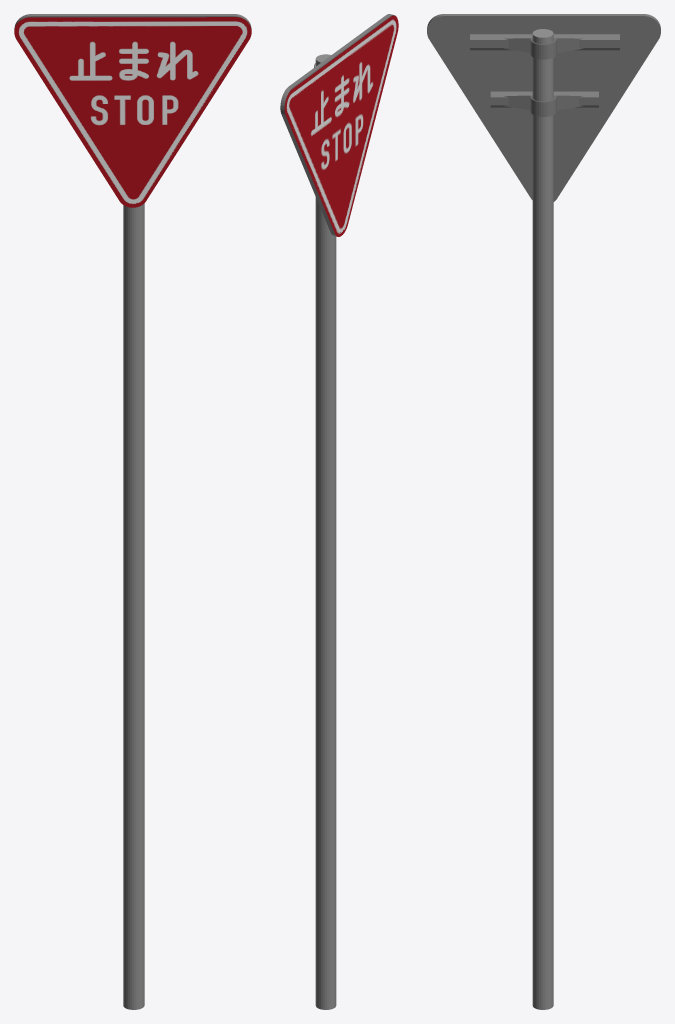
3 renders of one model, left to right at view 1: azimuth 90°, elevation 25°; view 2: azimuth 150°, elevation 25°; view 3: azimuth 270°, elevation 25°, orthographic. The views are drawn at different scales.
Parts seen in each view (by area): view 1: 032, Prop; view 2: Prop, 032; view 3: Prop, 032.
Boxes of the visible parts, x1,y1,x2,y2 form: 032: (14, 14, 251, 207); Prop: (123, 203, 144, 1009); Prop: (314, 54, 336, 1009); 032: (280, 14, 398, 236); Prop: (470, 29, 619, 1009); 032: (427, 14, 660, 201).
Bounding box in the file's own units: 6.76 × 238 × 51.33.
